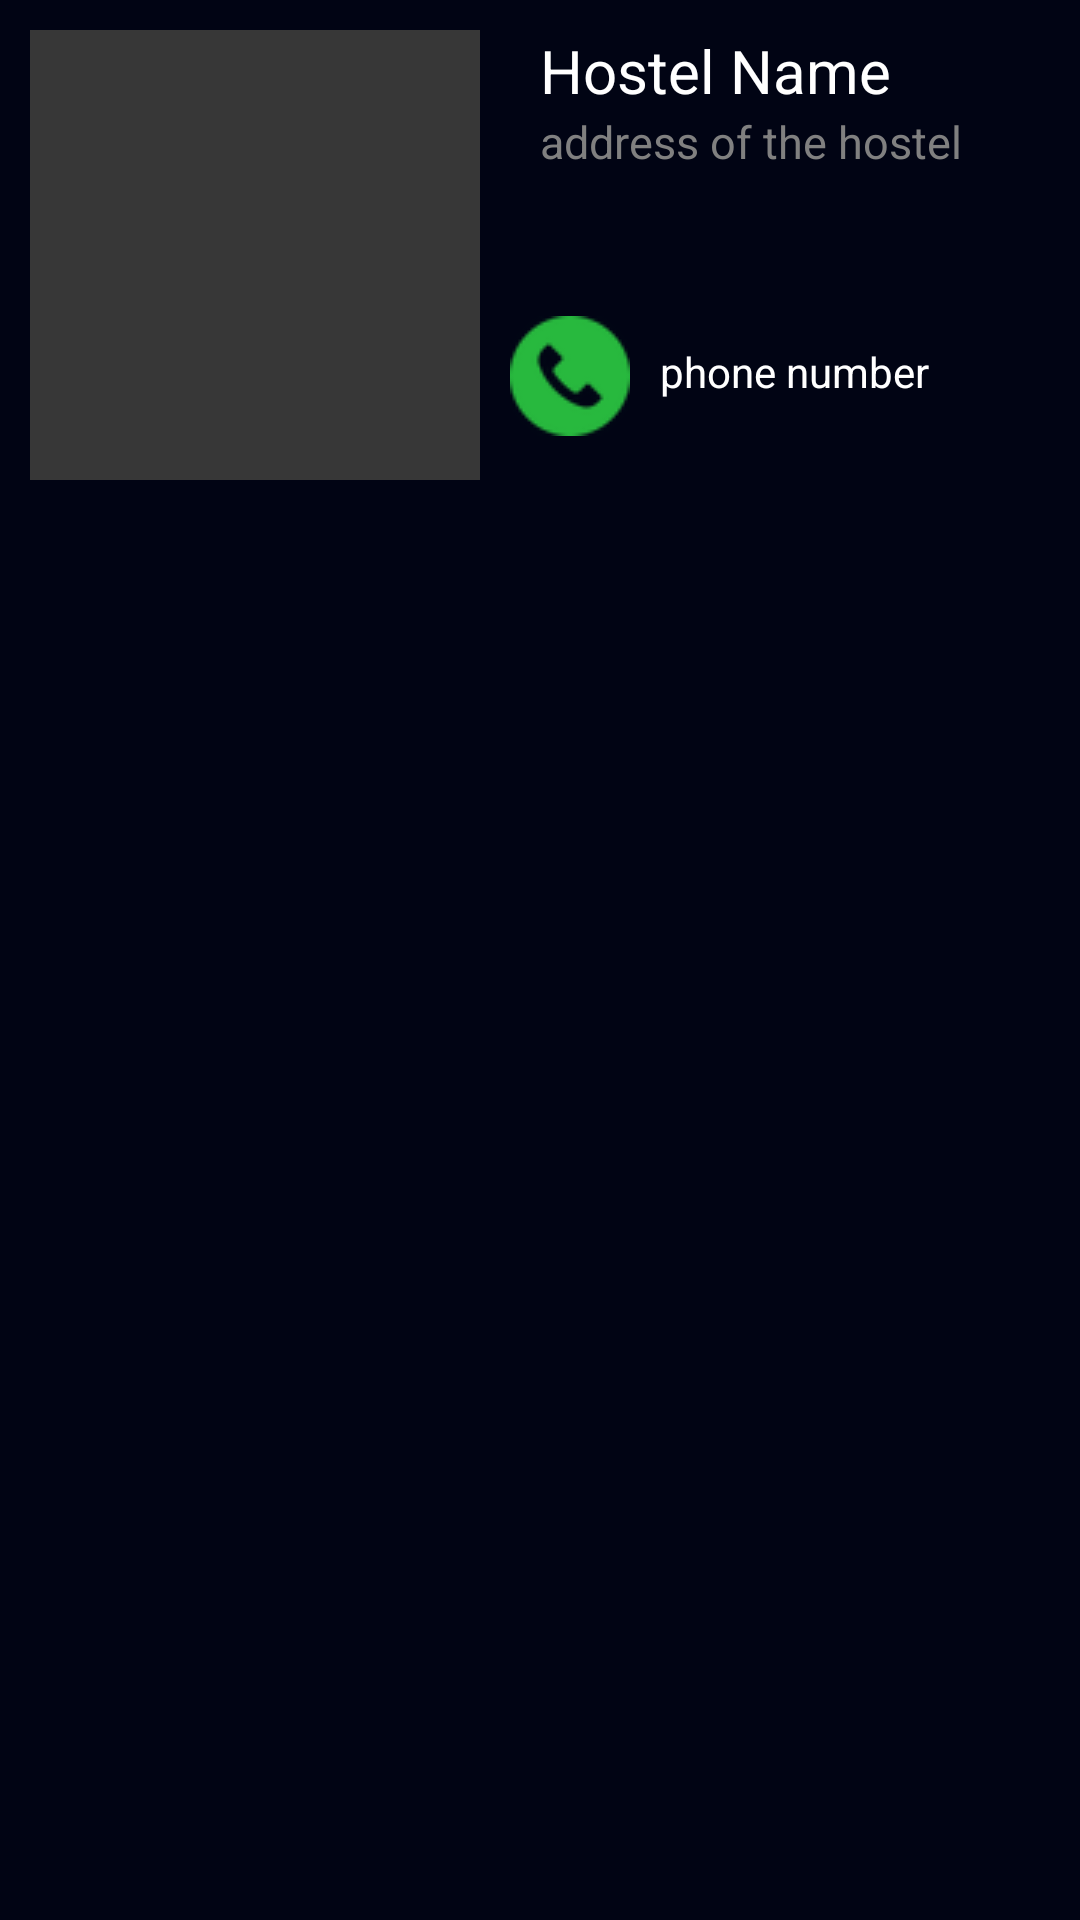

Screen size 1080 × 1920. Icon name, then its center in pixels as (x=x, y=y):
phonecall: (x=570, y=376)
